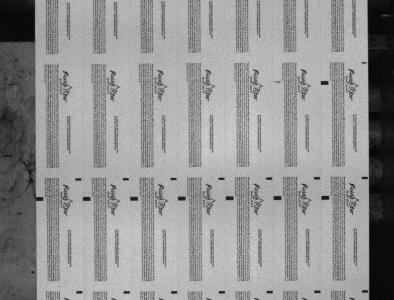backgroundclutter: (31, 271, 35, 274)
incorrect qblock: (362, 61, 368, 64), (274, 81, 281, 83)
qblock: (321, 195, 330, 200), (83, 196, 91, 201), (130, 196, 138, 201), (178, 196, 186, 201), (321, 80, 329, 85), (226, 196, 234, 200), (274, 196, 282, 200), (36, 197, 43, 201)
smallqblock: (123, 290, 130, 294), (76, 290, 83, 293), (171, 290, 178, 293), (267, 290, 274, 293), (219, 290, 226, 293), (75, 178, 82, 181), (170, 177, 177, 180), (266, 177, 273, 180), (218, 177, 225, 180), (362, 290, 369, 293), (362, 176, 369, 179), (315, 290, 321, 293), (123, 178, 130, 180), (314, 177, 321, 179)
